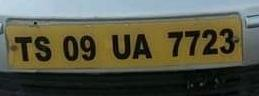0: (61, 33, 79, 63)
2: (200, 26, 220, 57)
3: (219, 24, 237, 57)
7: (164, 27, 184, 62), (185, 27, 200, 59)
9: (79, 35, 99, 63)
A: (132, 31, 154, 62)
S: (33, 33, 53, 64)
T: (12, 35, 34, 65)
U: (111, 28, 132, 63)
